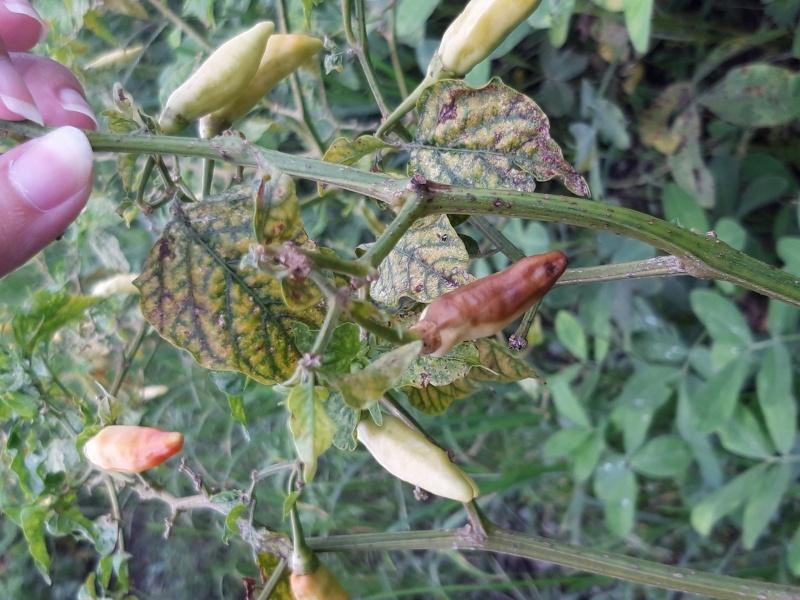cabai_normal: (354, 410, 477, 502), (167, 19, 275, 119), (214, 34, 324, 117), (435, 1, 541, 76), (84, 423, 182, 475)
lalat_buah: (419, 249, 567, 348)
